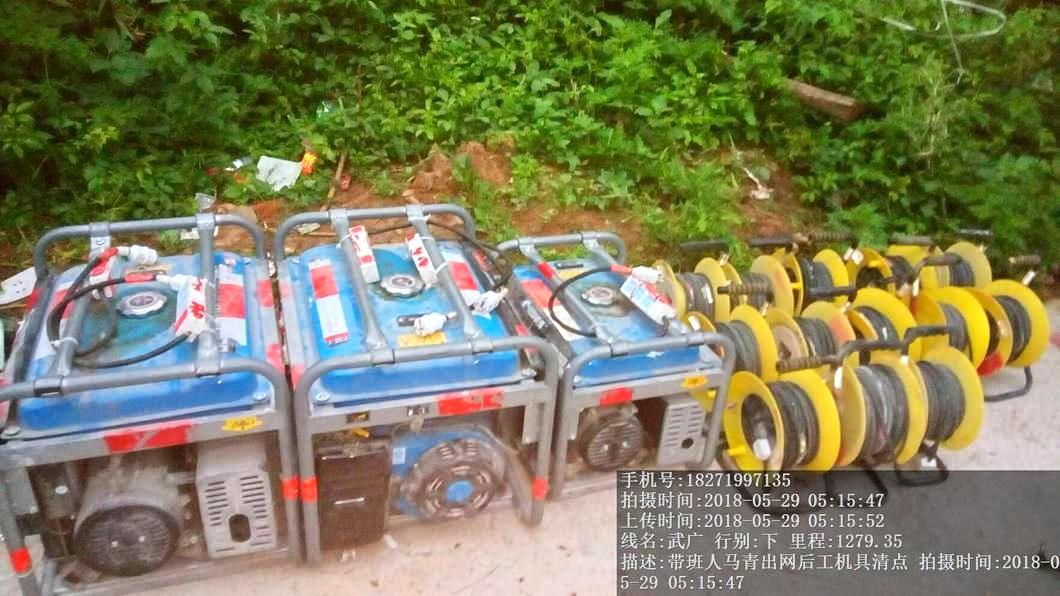DJ: (269, 202, 567, 554), (10, 208, 269, 580)
DX: (719, 364, 839, 477), (830, 347, 935, 464)
